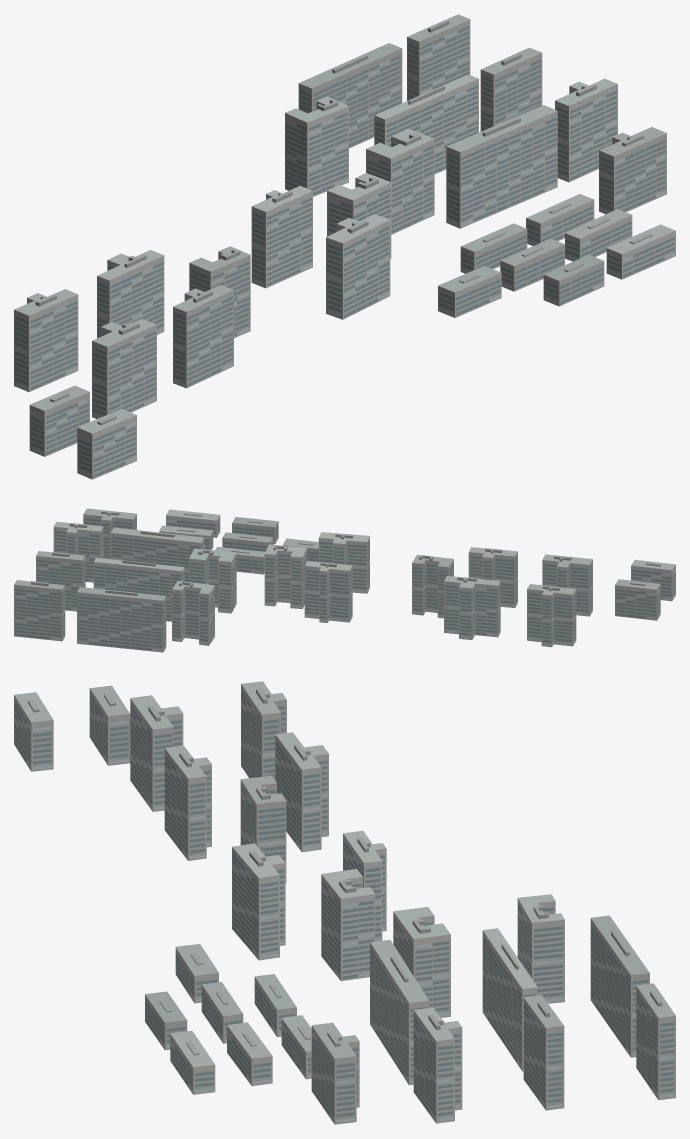
Rendered from apt-a13920707.glb.
3 renders of one model, top to bottom at view 1: azimuth 30°, elevation 25°; view 2: azimuth 150°, elevation 25°; view 3: azimuth 270°, elevation 25°, orthographic. The views are drawn at different scales.
Parts seen in each view (by area): view 1: apt-a13920707; view 2: apt-a13920707; view 3: apt-a13920707.
Part boxes in pixels (x1,y1,x2,y2): apt-a13920707: (14, 14, 675, 479); apt-a13920707: (14, 508, 675, 652); apt-a13920707: (14, 681, 675, 1124).
Size of the model in its own units: 464 by 47.81 by 333.
